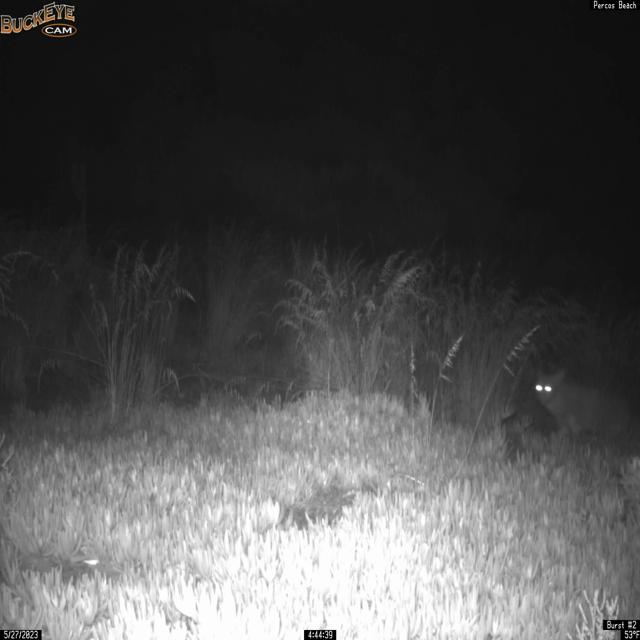coyote: (533, 365, 639, 448)
